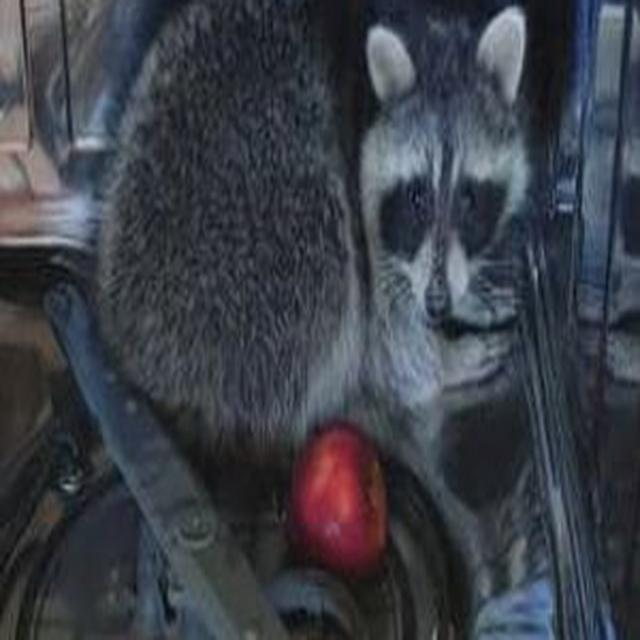Raccoon: (89, 0, 533, 451)
